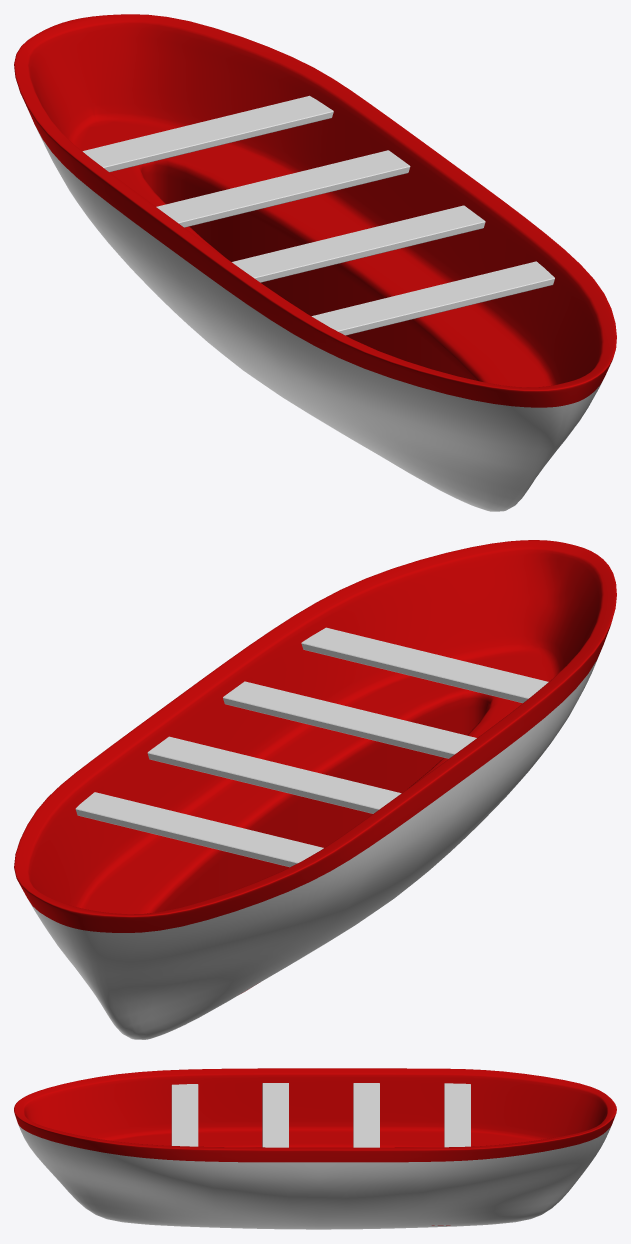
File: newlifeboat3.fbx
The picture shows the model from 3 angles, top to bottom: view 1: azimuth 30°, elevation 25°; view 2: azimuth 150°, elevation 25°; view 3: azimuth 270°, elevation 25°; orthographic projection. The views are drawn at different scales.
Visible parts, largest first — view 1: Lifeboat, Box295; view 2: Lifeboat, Box295; view 3: Lifeboat, Box295.
Boxes of the visible parts, box(x1,y1,x2,y2) form: Lifeboat: box(14, 14, 616, 511); Box295: box(82, 95, 554, 335); Lifeboat: box(14, 540, 616, 1039); Box295: box(75, 627, 548, 867); Lifeboat: box(14, 1068, 616, 1229); Box295: box(171, 1083, 470, 1147).
Size of the model in its own units: 3.07 by 2.06 by 9.55.
